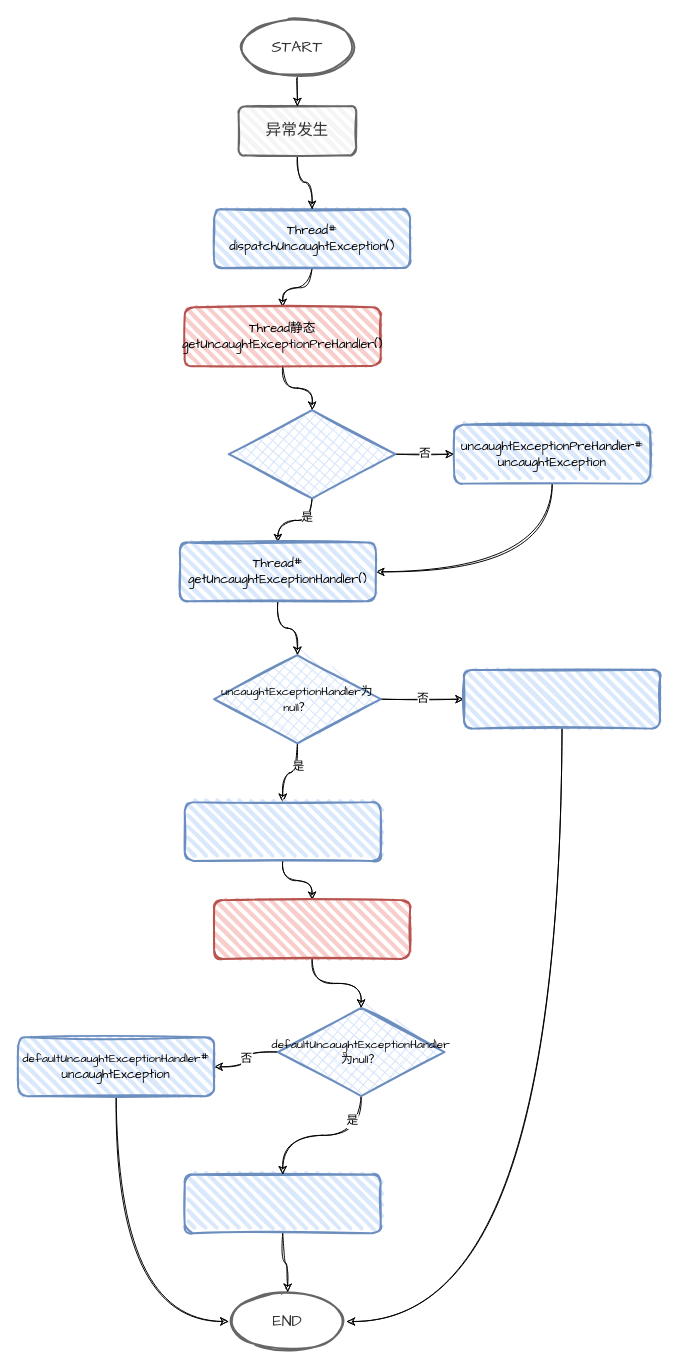
The diagram is 677 pixels wide and 1368 high, and some of its shapes have lost their labels. Each missing label, with the centre of its shape:
e.printStackTrace: the point at 282,1203
ThreadGroup# uncaughtException: the point at 282,831
Thread静态 getDefaultUncaughtExceptionHandler(): the point at 312,929
uncaughtExceptionHandler # uncaughtException: the point at 562,698
uncaughtExceptionPreHandler为null？: the point at 311,454
